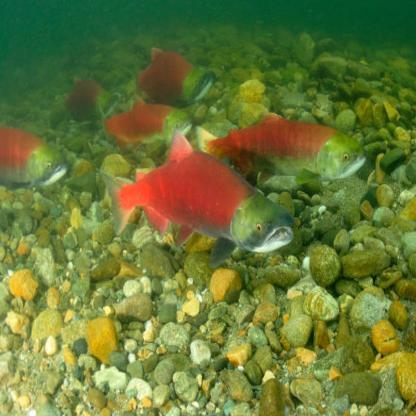sockeye: (108, 143, 285, 258), (219, 123, 358, 190), (135, 47, 214, 98), (0, 129, 64, 188), (108, 103, 190, 149)
